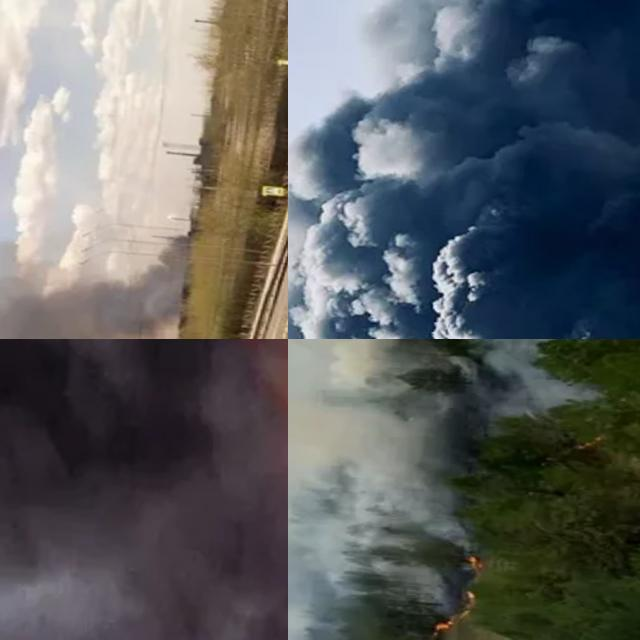smoke: (288, 0, 640, 339), (288, 339, 640, 640), (0, 339, 288, 640), (0, 210, 185, 339)
